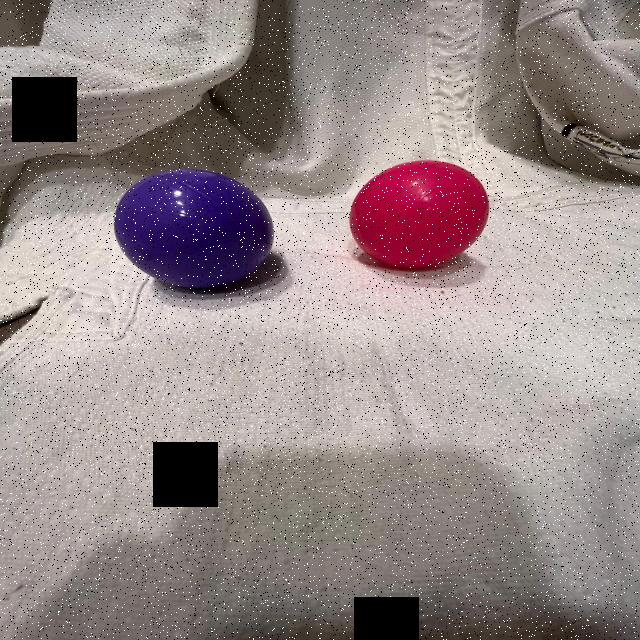ball: (112, 168, 280, 293), (345, 157, 493, 272)
